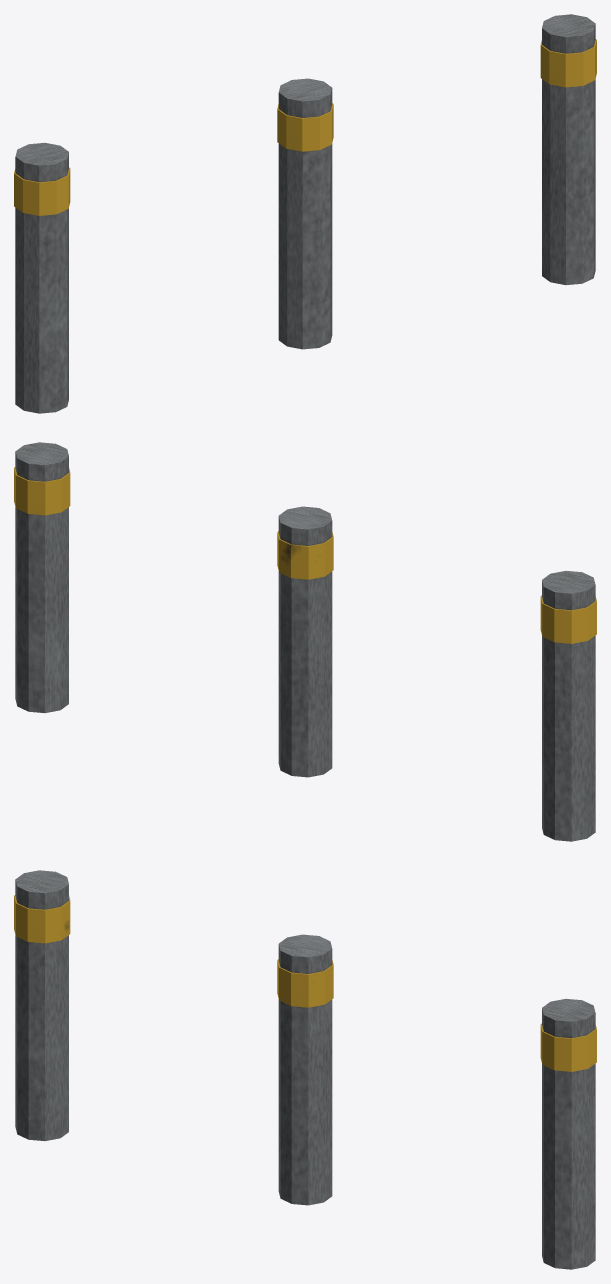
Rendered from city_bollards.glb.
3 renders of one model, top to bottom at view 1: azimuth 30°, elevation 25°; view 2: azimuth 150°, elevation 25°; view 3: azimuth 330°, elevation 25°, orthographic.
Visible parts, largest first — view 1: city_bollards; view 2: city_bollards; view 3: city_bollards.
Boxes of the visible parts, box(x1,y1,x2,y2) form: city_bollards: box(14, 14, 596, 413); city_bollards: box(14, 442, 596, 841); city_bollards: box(14, 870, 596, 1269).
Size of the model in its own units: 2.18 by 0.9 by 0.19.
Materials: 2 (2 with a texture image).
